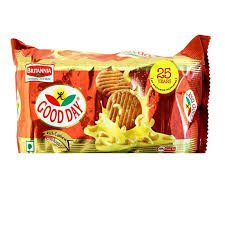gooday-medium: (10, 41, 209, 153)
